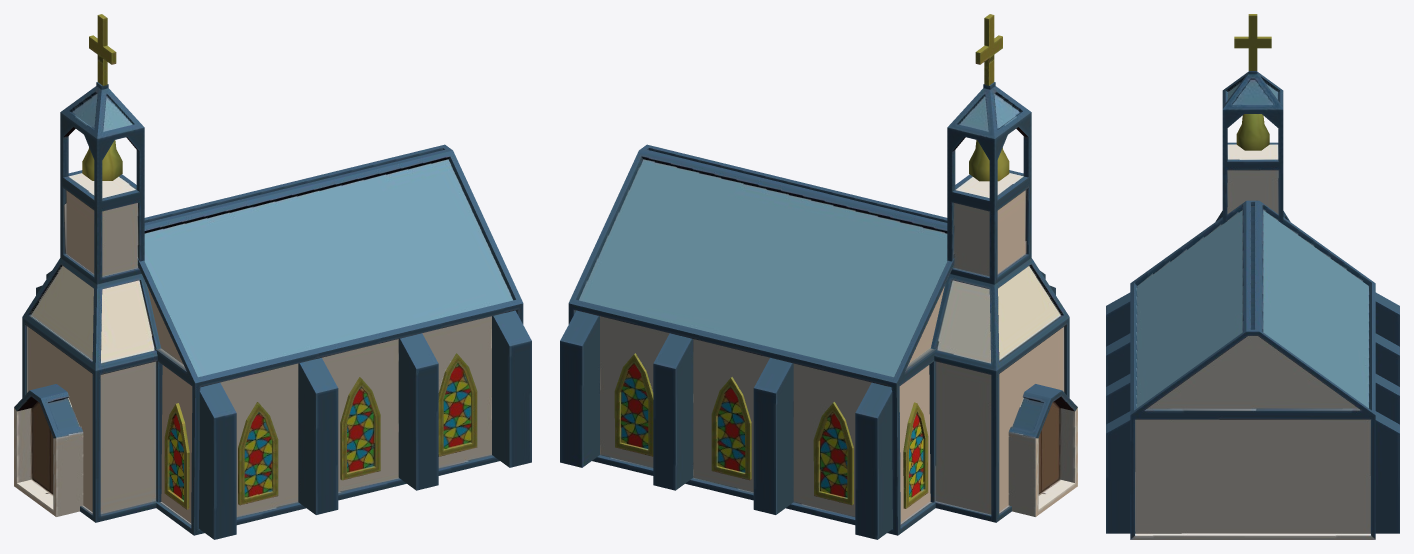
Rendered from Church.glb.
3 renders of one model, left to right at view 1: azimuth 30°, elevation 25°; view 2: azimuth 150°, elevation 25°; view 3: azimuth 270°, elevation 25°, orthographic. The views are drawn at different scales.
Parts seen in each view (by area): view 1: Plane001; view 2: Plane001; view 3: Plane001.
Part boxes in pixels (x1=…): Plane001: x1=14, y1=14, x2=531, y2=539; Plane001: x1=560, y1=14, x2=1077, y2=539; Plane001: x1=1106, y1=14, x2=1399, y2=539.
Size of the model in its own units: 5.86 by 6.34 by 4.37.
Materials: 1 (1 with a texture image).
